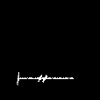treble_crochet: (17, 75, 72, 82)
